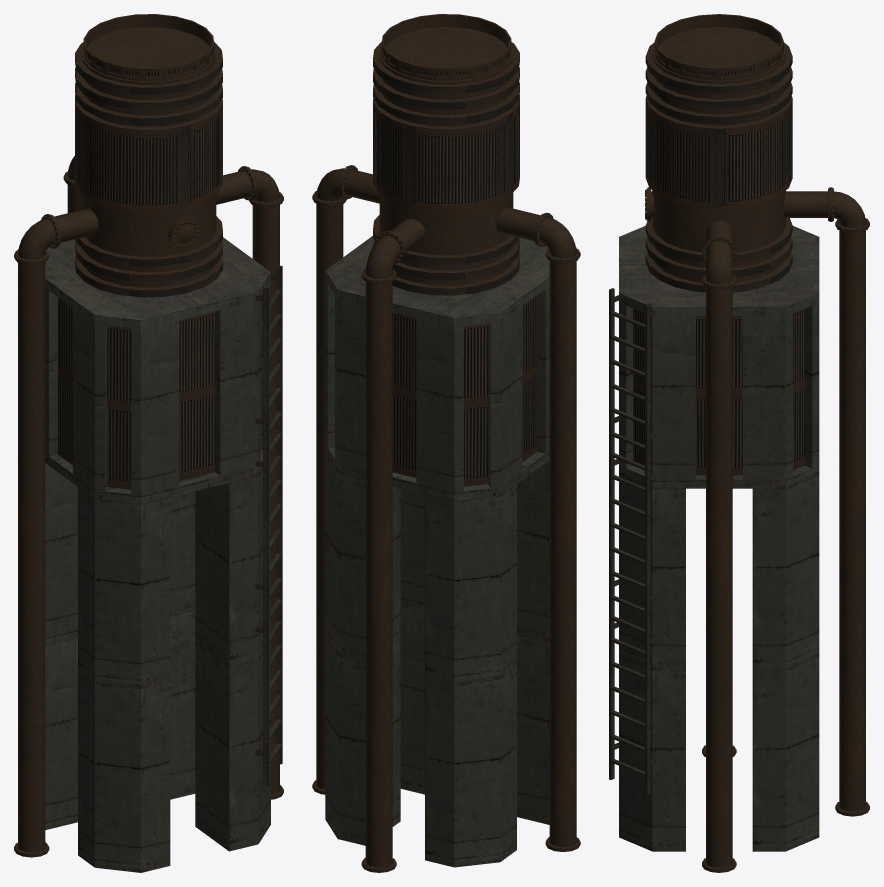
The model's file is boiler_hx_4.obj.
3 renders of one model, left to right at view 1: azimuth 30°, elevation 25°; view 2: azimuth 150°, elevation 25°; view 3: azimuth 270°, elevation 25°, orthographic.
Visible parts, largest first — view 1: boiler_hx_4; view 2: boiler_hx_4; view 3: boiler_hx_4.
Boxes of the visible parts, x1=… form: boiler_hx_4: x1=14, y1=14, x2=283, y2=872; boiler_hx_4: x1=312, y1=14, x2=580, y2=872; boiler_hx_4: x1=609, y1=14, x2=869, y2=872.
Bounding box in the file's own units: 4.52 × 12.7 × 3.91.
